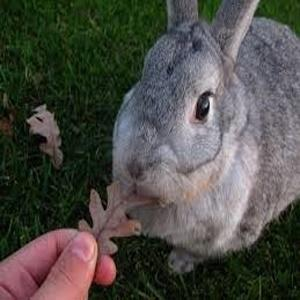rabbit: (90, 0, 299, 272)
